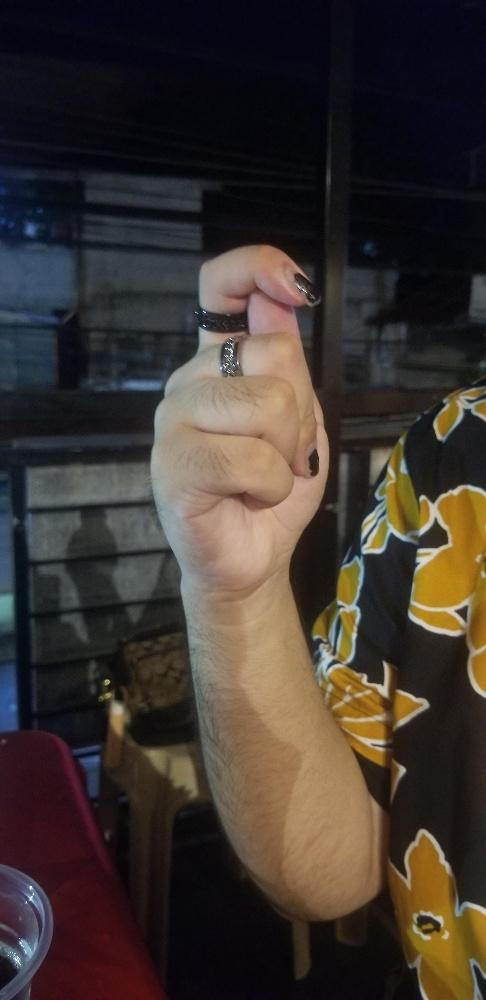t: (151, 242, 336, 593)
